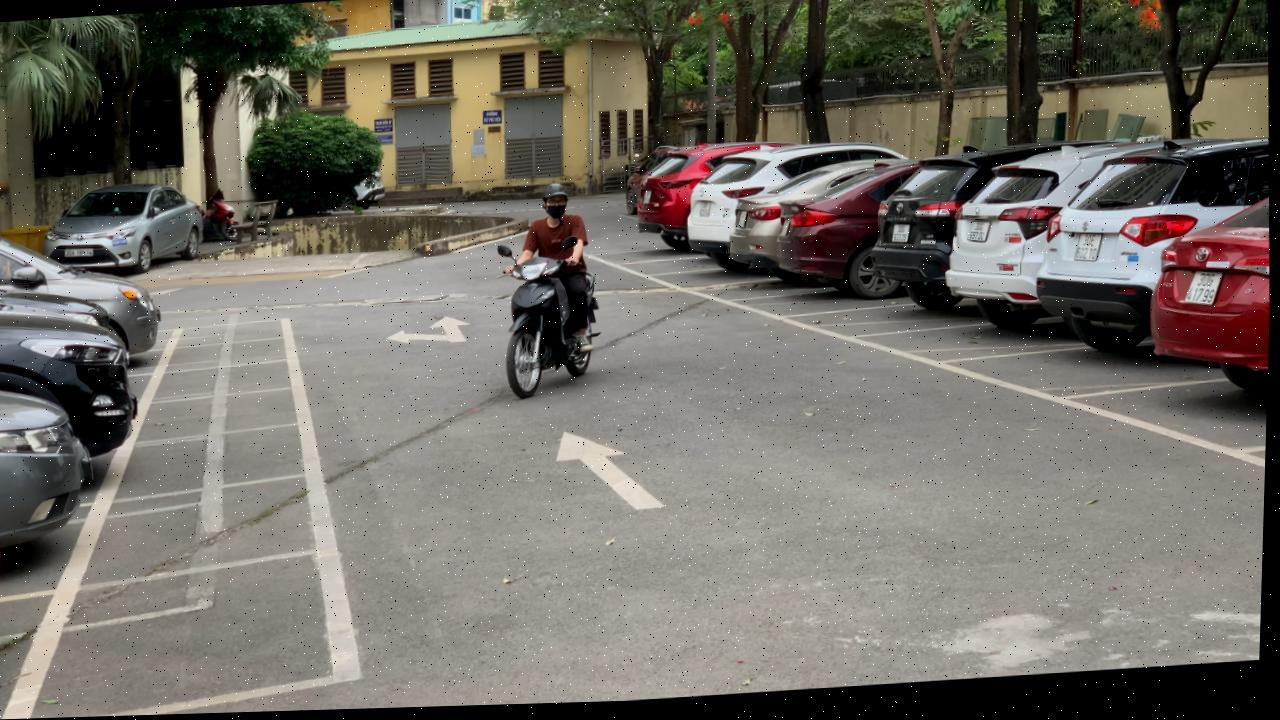helmet: (544, 185, 572, 208)
motorcyclist: (485, 183, 618, 403)
